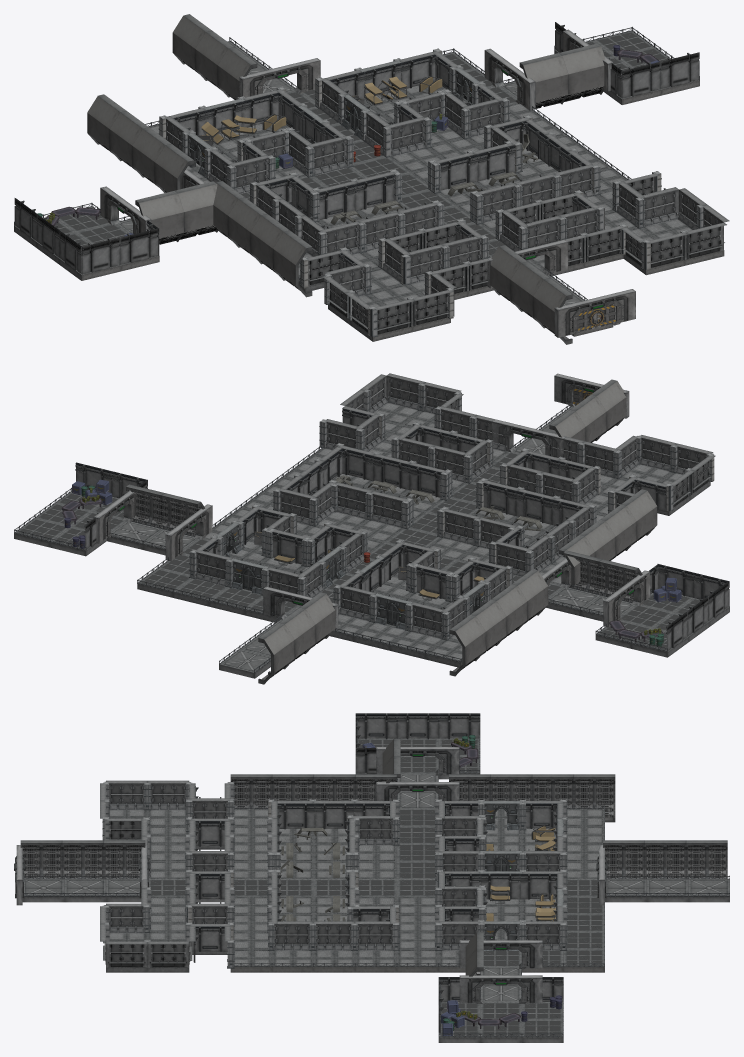
File: SpaceShip.fbx
3 renders of one model, top to bottom at view 1: azimuth 30°, elevation 25°; view 2: azimuth 150°, elevation 25°; view 3: azimuth 270°, elevation 25°, orthographic. The views are drawn at different scales.
Parts seen in each view (by area): view 1: Lvl2Z1_Pared_low.013, Lvl2Z1_Tunel_low.004, Lvl2Z1_Tunel_low.001, Lvl2Z1_Tunel_low.003, Lvl2Z1_ParedHabitacion_low.005, Lvl2Z1_ParedHabitacion_low.016, Lvl2Z1_ParedHabitacion_low.025, Lvl2Z1_ParedHabitacion_low.024, Lvl2Z1_ParedHabitacion_low.004, Lvl2Z1_PortonMarco_low.008, Lvl2Z1_PortonMarco_low.001, Lvl2Z1_ParedHabitacion_low.006 (+54 smaller); view 2: Lvl2Z1_Pared_low.013, Lvl2Z1_Tunel_low.001, Lvl2Z1_ParedHabitacion_low.023, Lvl2Z1_ParedHabitacion_low.022, Lvl2Z1_Tunel_low.004, Lvl2Z1_Tunel_low.003, Lvl2Z1_Pared_low.021, Lvl2Z1_ParedHabitacion_low.004, Lvl2Z1_PortonMarco_low.006, Lvl2Z1_Tunel_low.007, Lvl2Z1_PortonMarco_low.004, Lvl2Z1_PortonMarco_low.007 (+67 smaller); view 3: Lvl2Z1_Pared_low.013, Lvl2Z1_Tunel_low.001, Lvl2Z1_ParedHabitacion_low.004, Lvl2Z1_ParedHabitacion_low.014, Lvl2Z1_PortonMarco_low.005, Lvl2Z1_ParedHabitacion_low.012, Lvl2Z1_Tunel_low.014, Lvl2Z1_Tunel_low.007, Lvl2Z1_Tunel_low.006, Lvl2Z1_Tunel_low.013, Lvl2Z1_Tunel_low.005, Lvl2Z1_PortonMarco_low.006 (+91 smaller).
Part boxes in pixels (x1,y1,x2,y2): Lvl2Z1_Pared_low.013: (307,173,729,334); Lvl2Z1_Tunel_low.004: (519,43,605,108); Lvl2Z1_Tunel_low.001: (172,14,257,99); Lvl2Z1_Tunel_low.003: (135,181,218,244); Lvl2Z1_ParedHabitacion_low.005: (621,52,699,98); Lvl2Z1_ParedHabitacion_low.016: (330,54,435,99); Lvl2Z1_ParedHabitacion_low.025: (319,174,394,219); Lvl2Z1_ParedHabitacion_low.024: (439,145,515,190); Lvl2Z1_ParedHabitacion_low.004: (14,198,83,274); Lvl2Z1_PortonMarco_low.008: (554,289,635,337); Lvl2Z1_PortonMarco_low.001: (239,58,320,97); Lvl2Z1_ParedHabitacion_low.006: (204,92,278,134); Lvl2Z1_Pared_low.013: (325,373,715,508); Lvl2Z1_Tunel_low.001: (258,592,336,684); Lvl2Z1_ParedHabitacion_low.023: (342,448,441,497); Lvl2Z1_ParedHabitacion_low.022: (483,483,582,525); Lvl2Z1_Tunel_low.004: (126,484,204,535); Lvl2Z1_Tunel_low.003: (563,550,642,602); Lvl2Z1_Pared_low.021: (335,482,406,527); Lvl2Z1_ParedHabitacion_low.004: (665,581,728,651); Lvl2Z1_PortonMarco_low.006: (165,504,212,561); Lvl2Z1_Tunel_low.007: (449,615,485,676); Lvl2Z1_PortonMarco_low.004: (603,570,650,627); Lvl2Z1_PortonMarco_low.007: (492,419,566,457); Lvl2Z1_Pared_low.013: (100,780,234,967); Lvl2Z1_Tunel_low.001: (603,840,727,878); Lvl2Z1_ParedHabitacion_low.004: (355,713,480,739); Lvl2Z1_ParedHabitacion_low.014: (277,803,354,829); Lvl2Z1_PortonMarco_low.005: (459,975,542,1003); Lvl2Z1_ParedHabitacion_low.012: (479,873,559,899); Lvl2Z1_Tunel_low.014: (62,840,103,878); Lvl2Z1_Tunel_low.007: (574,774,615,822); Lvl2Z1_Tunel_low.006: (20,840,62,878); Lvl2Z1_Tunel_low.013: (104,840,145,878); Lvl2Z1_Tunel_low.005: (230,774,272,808); Lvl2Z1_PortonMarco_low.006: (459,940,542,969).
Size of the model in its own units: 6801 by 480 by 6886.
